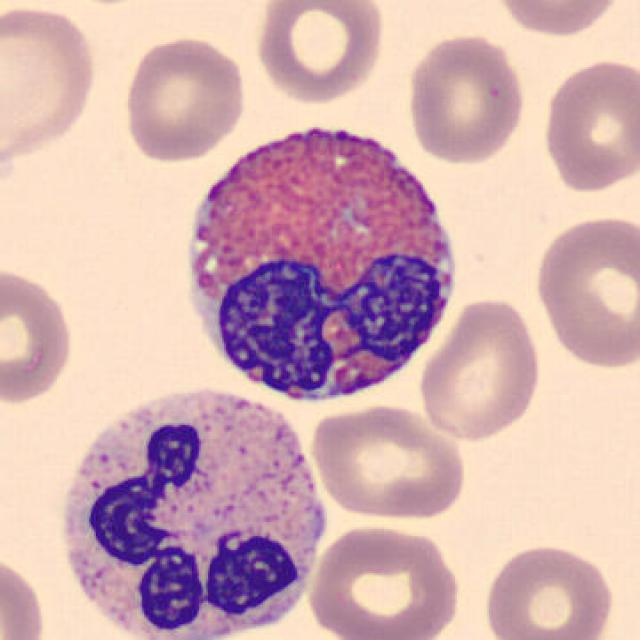Eosinophil: (167, 101, 471, 416)
Neutrophil: (46, 372, 338, 640)
RBC: (414, 294, 546, 444), (308, 400, 470, 522), (306, 520, 464, 640), (530, 208, 638, 374), (119, 31, 251, 166), (402, 30, 530, 166), (0, 1, 101, 171), (251, 0, 389, 106), (478, 537, 620, 640), (537, 53, 638, 196), (0, 262, 78, 406), (489, 0, 627, 39), (0, 550, 50, 640)
